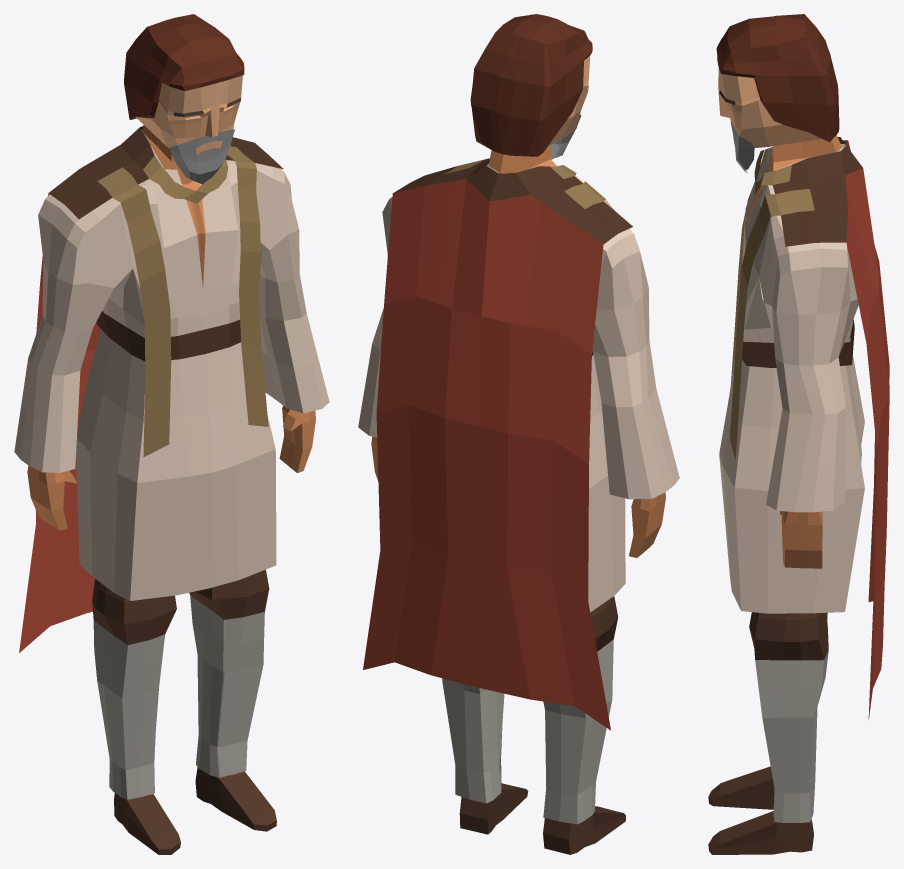
File: feudal lord.fbx
The picture shows the model from 3 angles, left to right: view 1: azimuth 30°, elevation 25°; view 2: azimuth 150°, elevation 25°; view 3: azimuth 270°, elevation 25°; orthographic projection. The views are drawn at different scales.
Parts seen in each view (by area): view 1: garments, garments.001, bady.001, bady, hair, head, belt, mustache; view 2: garments.001, garments, bady.001, hair, bady, head; view 3: garments, garments.001, bady.001, hair, bady, head, belt, mustache.
Part boxes in pixels (left/top/right/bottom): garments: left=14, top=129, right=329, bottom=600; garments.001: left=19, top=126, right=283, bottom=652; bady.001: left=92, top=569, right=269, bottom=799; bady: left=27, top=125, right=315, bottom=854; hair: left=124, top=14, right=244, bottom=119; head: left=136, top=75, right=242, bottom=154; belt: left=96, top=311, right=240, bottom=361; mustache: left=169, top=129, right=234, bottom=184; garments.001: left=363, top=158, right=632, bottom=730; garments: left=358, top=163, right=679, bottom=612; bady.001: left=442, top=596, right=618, bottom=824; hair: left=470, top=14, right=592, bottom=156; bady: left=371, top=145, right=665, bottom=854; head: left=548, top=55, right=590, bottom=145; garments: left=719, top=144, right=864, bottom=613; garments.001: left=730, top=137, right=889, bottom=719; bady.001: left=749, top=612, right=828, bottom=822; hair: left=716, top=14, right=839, bottom=141; bady: left=708, top=135, right=841, bottom=854; head: left=718, top=67, right=821, bottom=147; belt: left=742, top=320, right=854, bottom=367; mustache: left=730, top=121, right=754, bottom=173.
Size of the model in its own units: 313 by 806 by 164.
